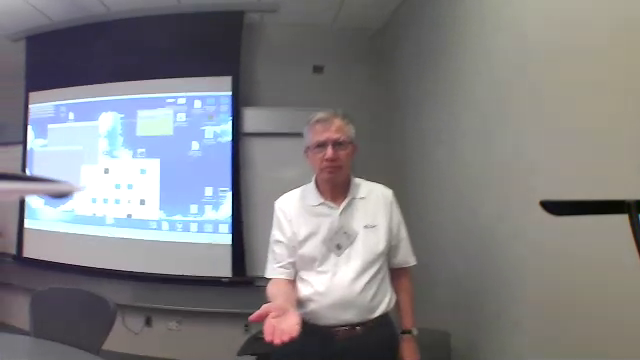land: (238, 295, 315, 344)
